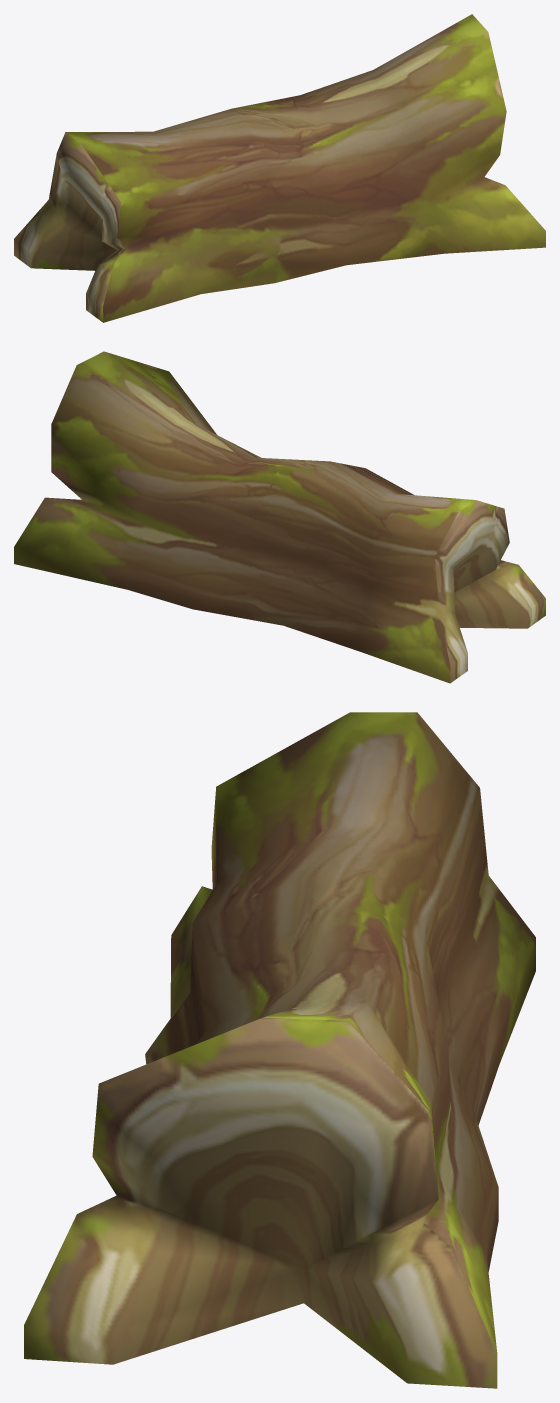
Rendered from Map_Choose_tree01.FBX.
3 renders of one model, top to bottom at view 1: azimuth 30°, elevation 25°; view 2: azimuth 150°, elevation 25°; view 3: azimuth 270°, elevation 25°, orthographic. The views are drawn at different scales.
Parts seen in each view (by area): view 1: Map_Choose_tree01; view 2: Map_Choose_tree01; view 3: Map_Choose_tree01.
Part boxes in pixels (left/top/right/bottom): Map_Choose_tree01: left=14, top=14, right=545, bottom=322; Map_Choose_tree01: left=14, top=351, right=545, bottom=683; Map_Choose_tree01: left=24, top=712, right=535, bottom=1388.
Size of the model in its own units: 68.28 by 26.24 by 34.64.
Materials: 1 (1 with a texture image).
